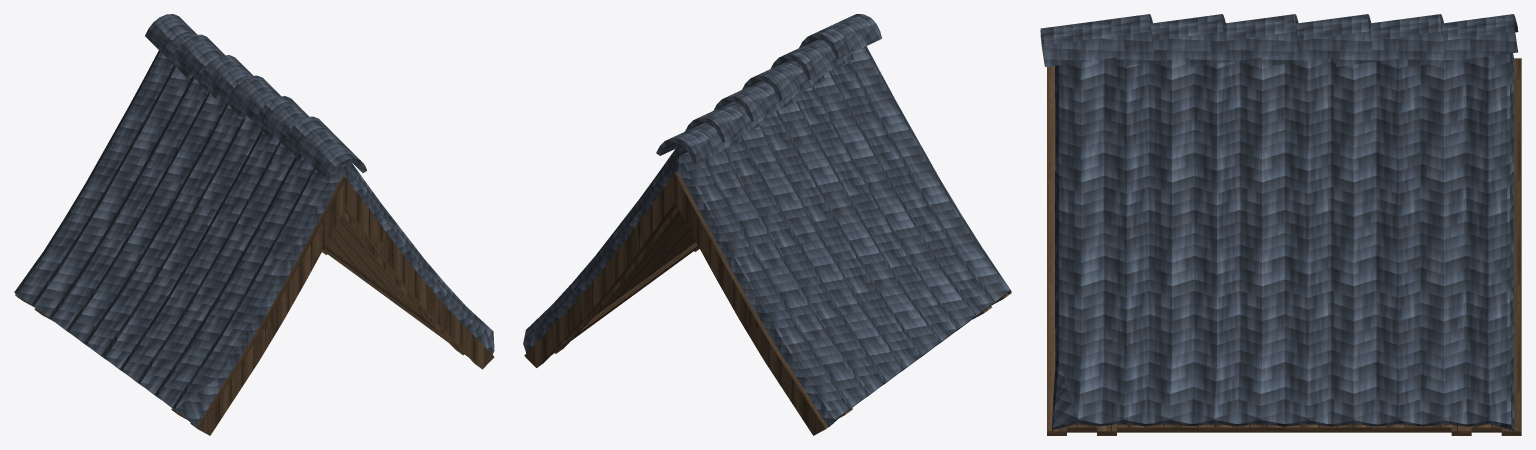
File: Roof_Slate_4x4.gltf
The picture shows the model from 3 angles, left to right: view 1: azimuth 30°, elevation 25°; view 2: azimuth 150°, elevation 25°; view 3: azimuth 270°, elevation 25°; orthographic projection. The views are drawn at different scales.
Parts seen in each view (by area): view 1: Roof_Slate_4x4; view 2: Roof_Slate_4x4; view 3: Roof_Slate_4x4.
Boxes of the visible parts, x1=… form: Roof_Slate_4x4: x1=14, y1=14, x2=494, y2=435; Roof_Slate_4x4: x1=523, y1=14, x2=1011, y2=435; Roof_Slate_4x4: x1=1040, y1=14, x2=1521, y2=435.
Size of the model in its own units: 5.51 by 4.25 by 5.56.
2 materials, 2 textured.
